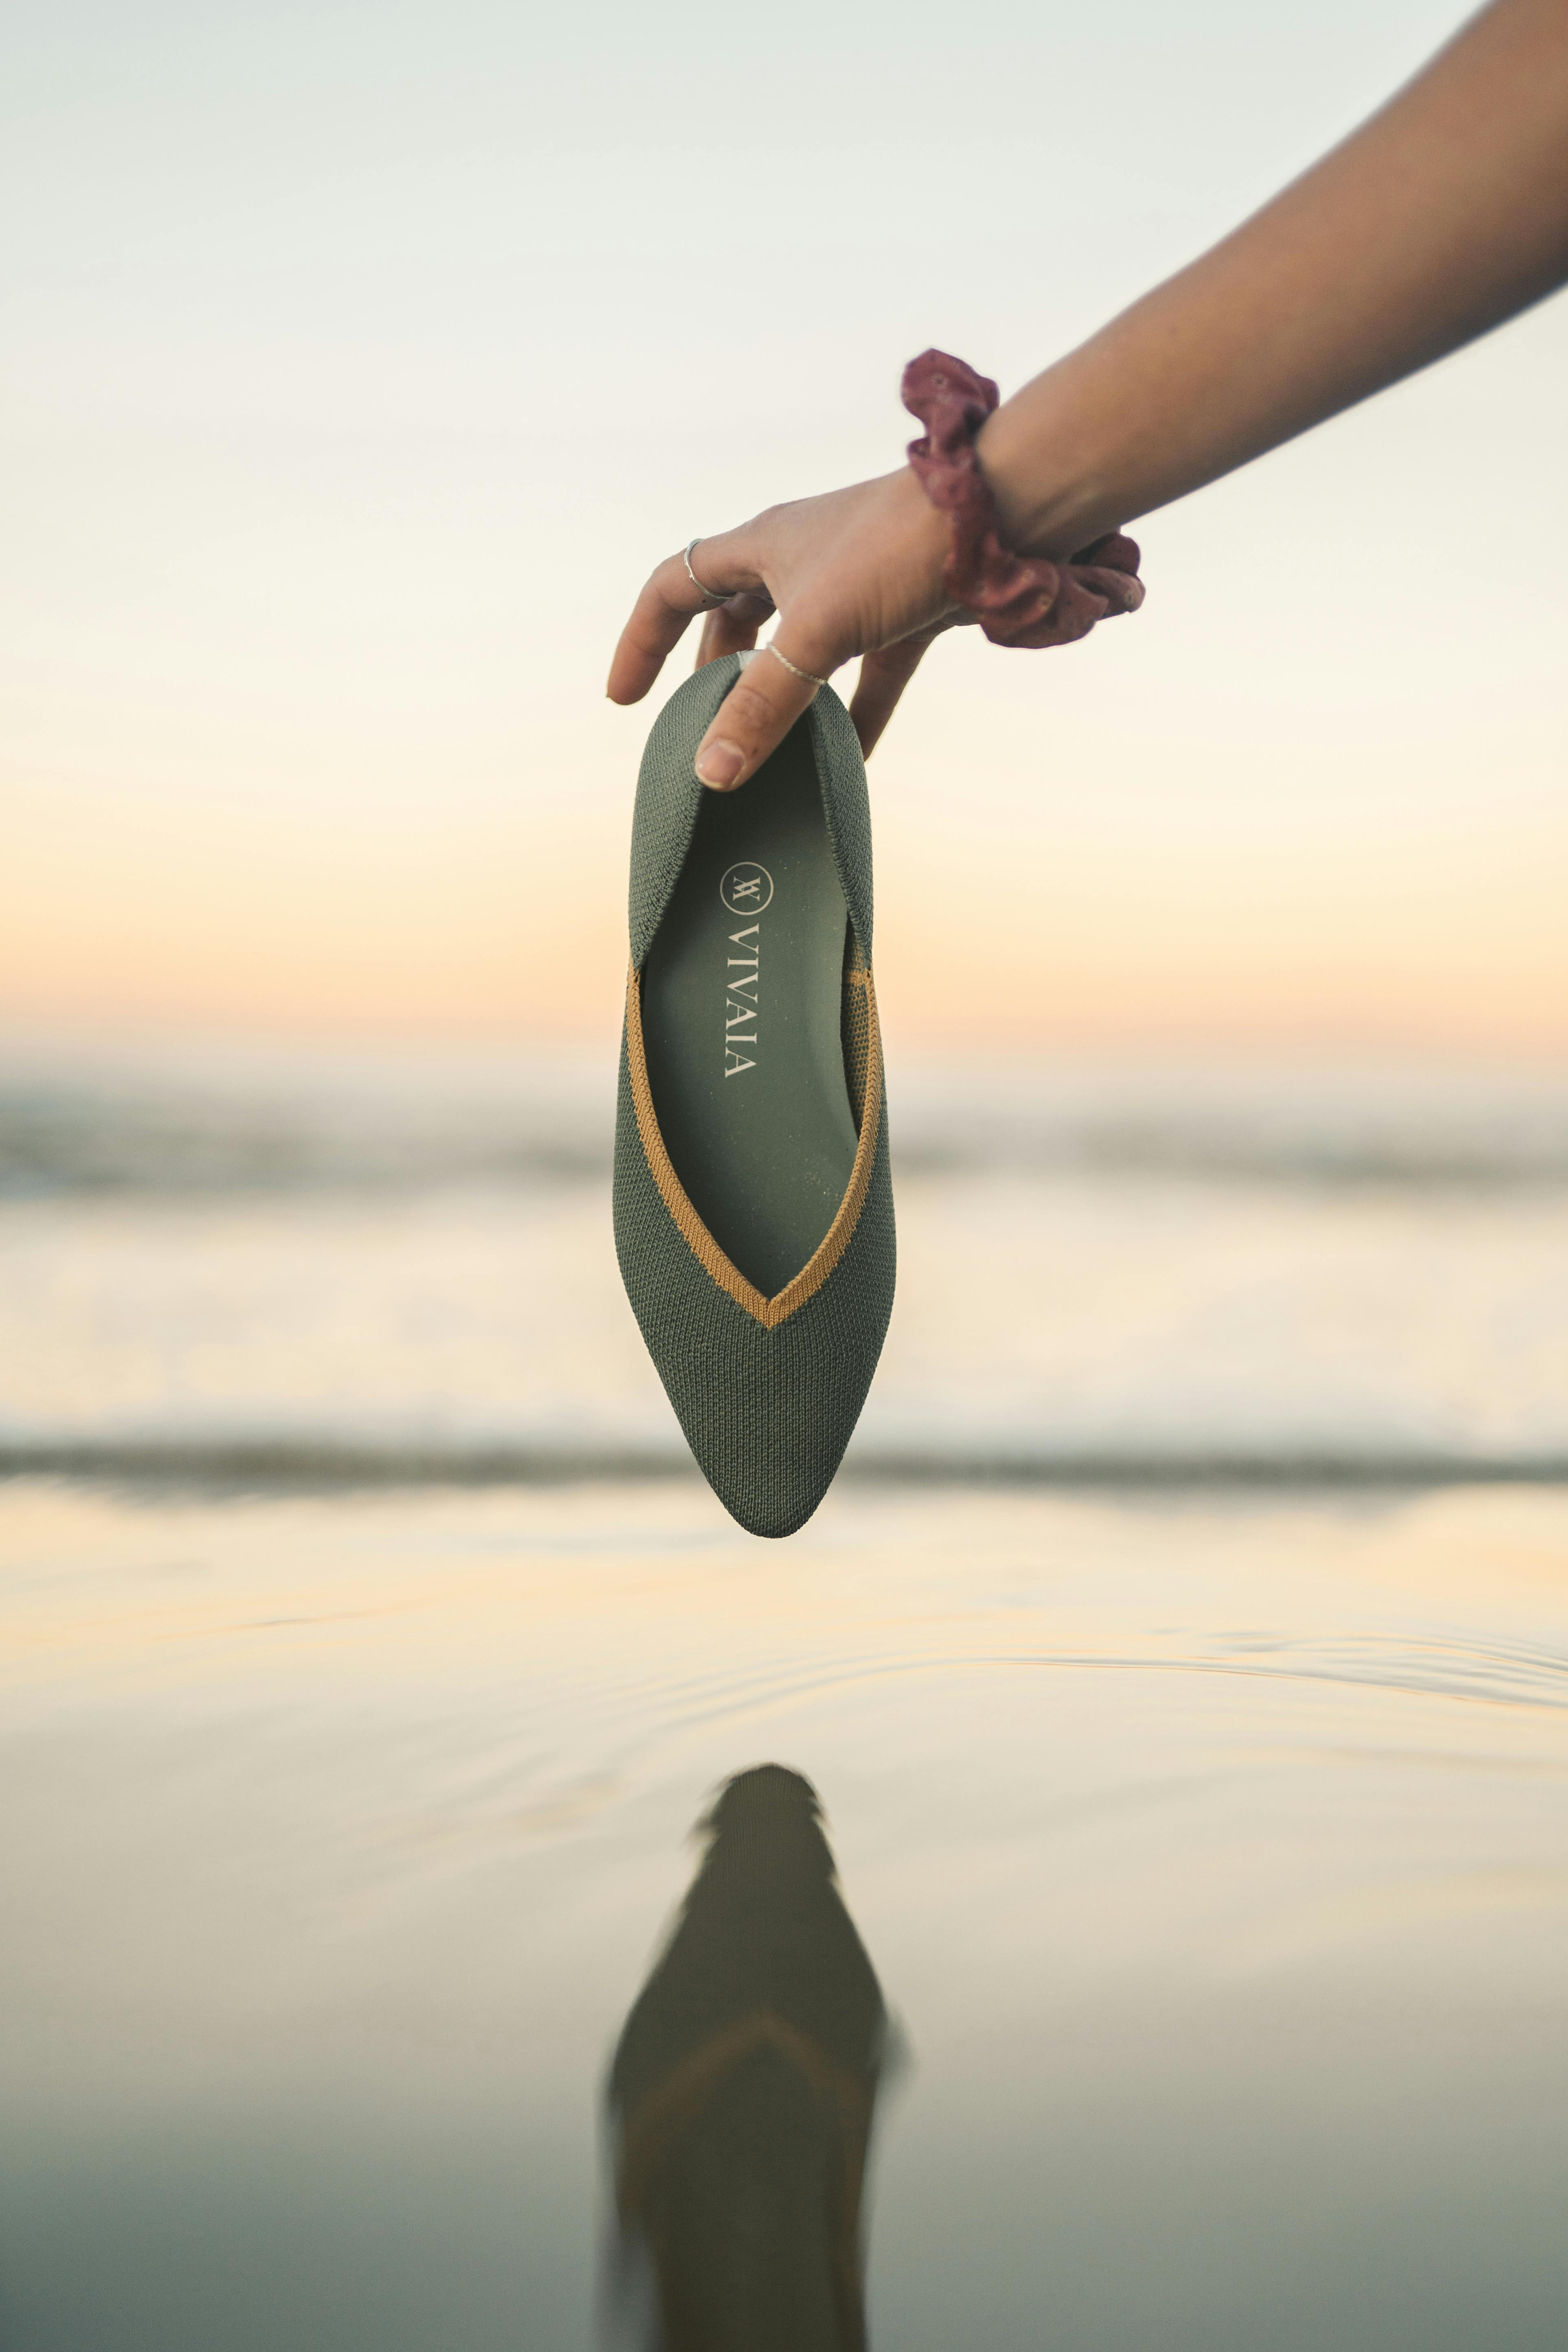Footwear: (493, 632, 1064, 1568)
